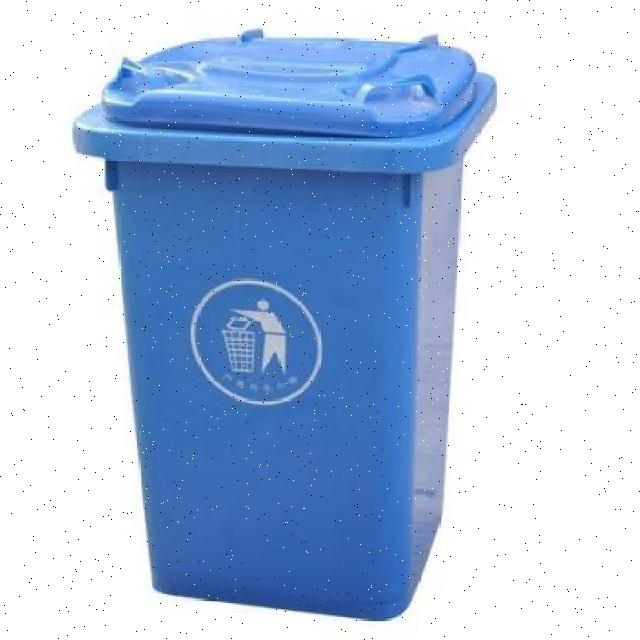garbage container: (61, 20, 517, 638)
